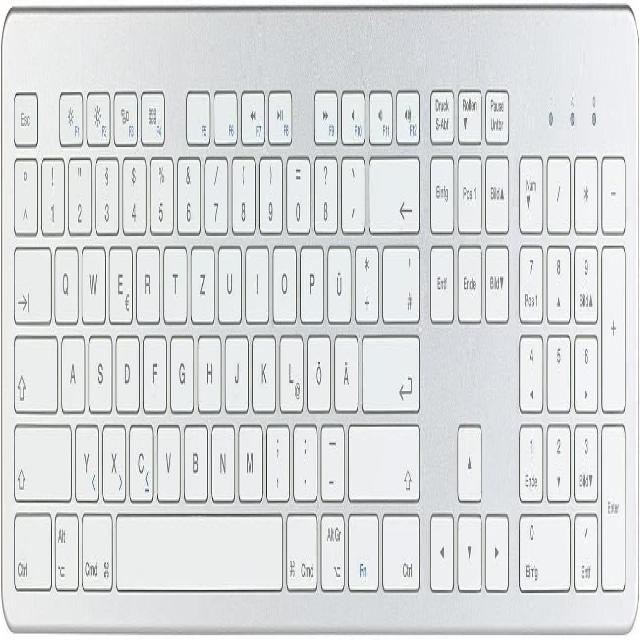0: (285, 150, 310, 231)
1: (40, 152, 65, 233)
2: (66, 152, 92, 233)
3: (93, 152, 119, 233)
4: (121, 152, 146, 233)
5: (148, 152, 173, 233)
6: (176, 152, 201, 233)
7: (203, 152, 227, 231)
8: (231, 152, 255, 231)
9: (258, 150, 283, 233)
a: (60, 328, 85, 411)
accent: (340, 151, 364, 230)
ae: (333, 328, 358, 411)
alt-left: (54, 509, 79, 590)
altgr-right: (318, 508, 345, 592)
b: (182, 419, 207, 500)
c: (127, 419, 153, 501)
caret: (12, 152, 37, 231)
comma: (265, 419, 290, 500)
d: (114, 328, 139, 411)
del: (367, 150, 419, 231)
e: (107, 241, 132, 323)
enter: (360, 330, 419, 411)
f: (142, 330, 166, 411)
g: (169, 330, 193, 411)
h: (196, 328, 221, 411)
hash: (381, 239, 419, 322)
i: (244, 239, 269, 320)
j: (224, 328, 249, 411)
k: (251, 328, 276, 411)
keyboard: (0, 3, 639, 637)
l: (278, 328, 303, 411)
m: (237, 419, 262, 500)
minus: (319, 421, 344, 500)
n: (209, 419, 235, 500)
o: (271, 241, 296, 322)
oe: (306, 328, 331, 411)
p: (299, 241, 323, 320)
plus: (354, 239, 378, 320)
point: (292, 420, 317, 498)
q: (52, 239, 78, 322)
r: (135, 239, 159, 322)
s: (87, 330, 112, 411)
shift-left: (13, 417, 70, 499)
shift-lock: (12, 330, 57, 411)
shift-right: (346, 419, 419, 500)
space: (114, 506, 284, 591)
ss: (312, 152, 337, 231)
strg-left: (13, 508, 51, 592)
strg-right: (380, 507, 422, 590)
t: (162, 239, 187, 320)
tab: (12, 241, 50, 322)
u: (217, 239, 242, 322)
ue: (326, 241, 350, 320)
v: (155, 419, 180, 500)
w: (80, 239, 105, 320)
x: (101, 419, 126, 500)
y: (73, 419, 98, 500)
z: (189, 239, 214, 322)
